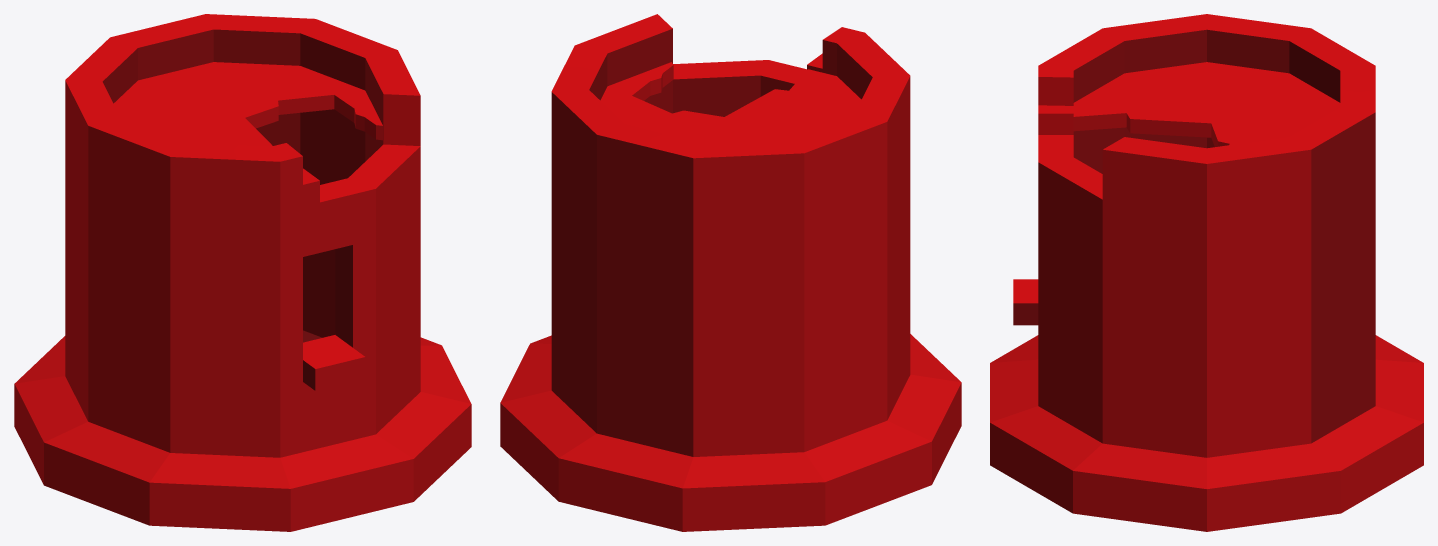
Rendered from clinder_house_B1.fbx.
3 views of the same model, side by side, from view 1: azimuth 30°, elevation 25°; view 2: azimuth 150°, elevation 25°; view 3: azimuth 270°, elevation 25° (orthographic).
Visible parts, largest first — view 1: clinder_house_B1; view 2: clinder_house_B1; view 3: clinder_house_B1.
Boxes of the visible parts, bbox=[...] form: clinder_house_B1: bbox=[14, 14, 471, 531]; clinder_house_B1: bbox=[500, 14, 961, 531]; clinder_house_B1: bbox=[990, 14, 1423, 531].
Bounding box in the file's own units: 298 × 250 × 283.
